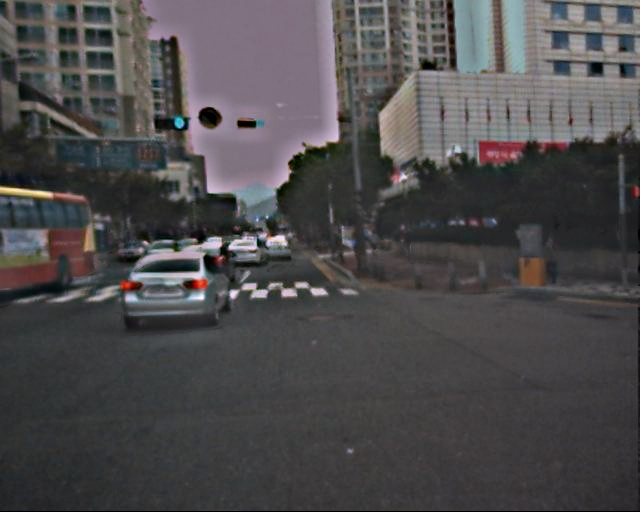person: (539, 236, 560, 287)
